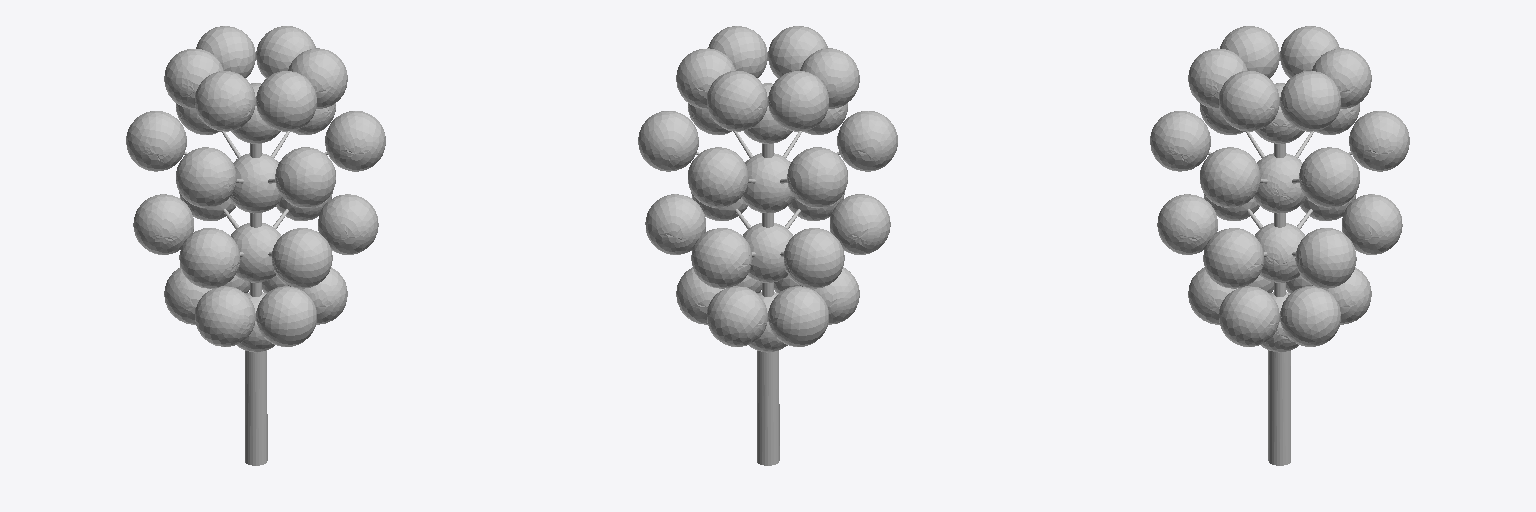
File: arbol.obj
The picture shows the model from 3 angles: view 1: azimuth 30°, elevation 25°; view 2: azimuth 150°, elevation 25°; view 3: azimuth 270°, elevation 25°; orthographic projection.
Parts seen in each view (by area): view 1: node_id3; view 2: node_id3; view 3: node_id3.
Boxes of the visible parts, x1=… form: node_id3: x1=126, y1=26, x2=385, y2=465; node_id3: x1=638, y1=26, x2=897, y2=465; node_id3: x1=1150, y1=26, x2=1409, y2=465.
Bounding box in the file's own units: 0.2646 × 0.512 × 0.2947.